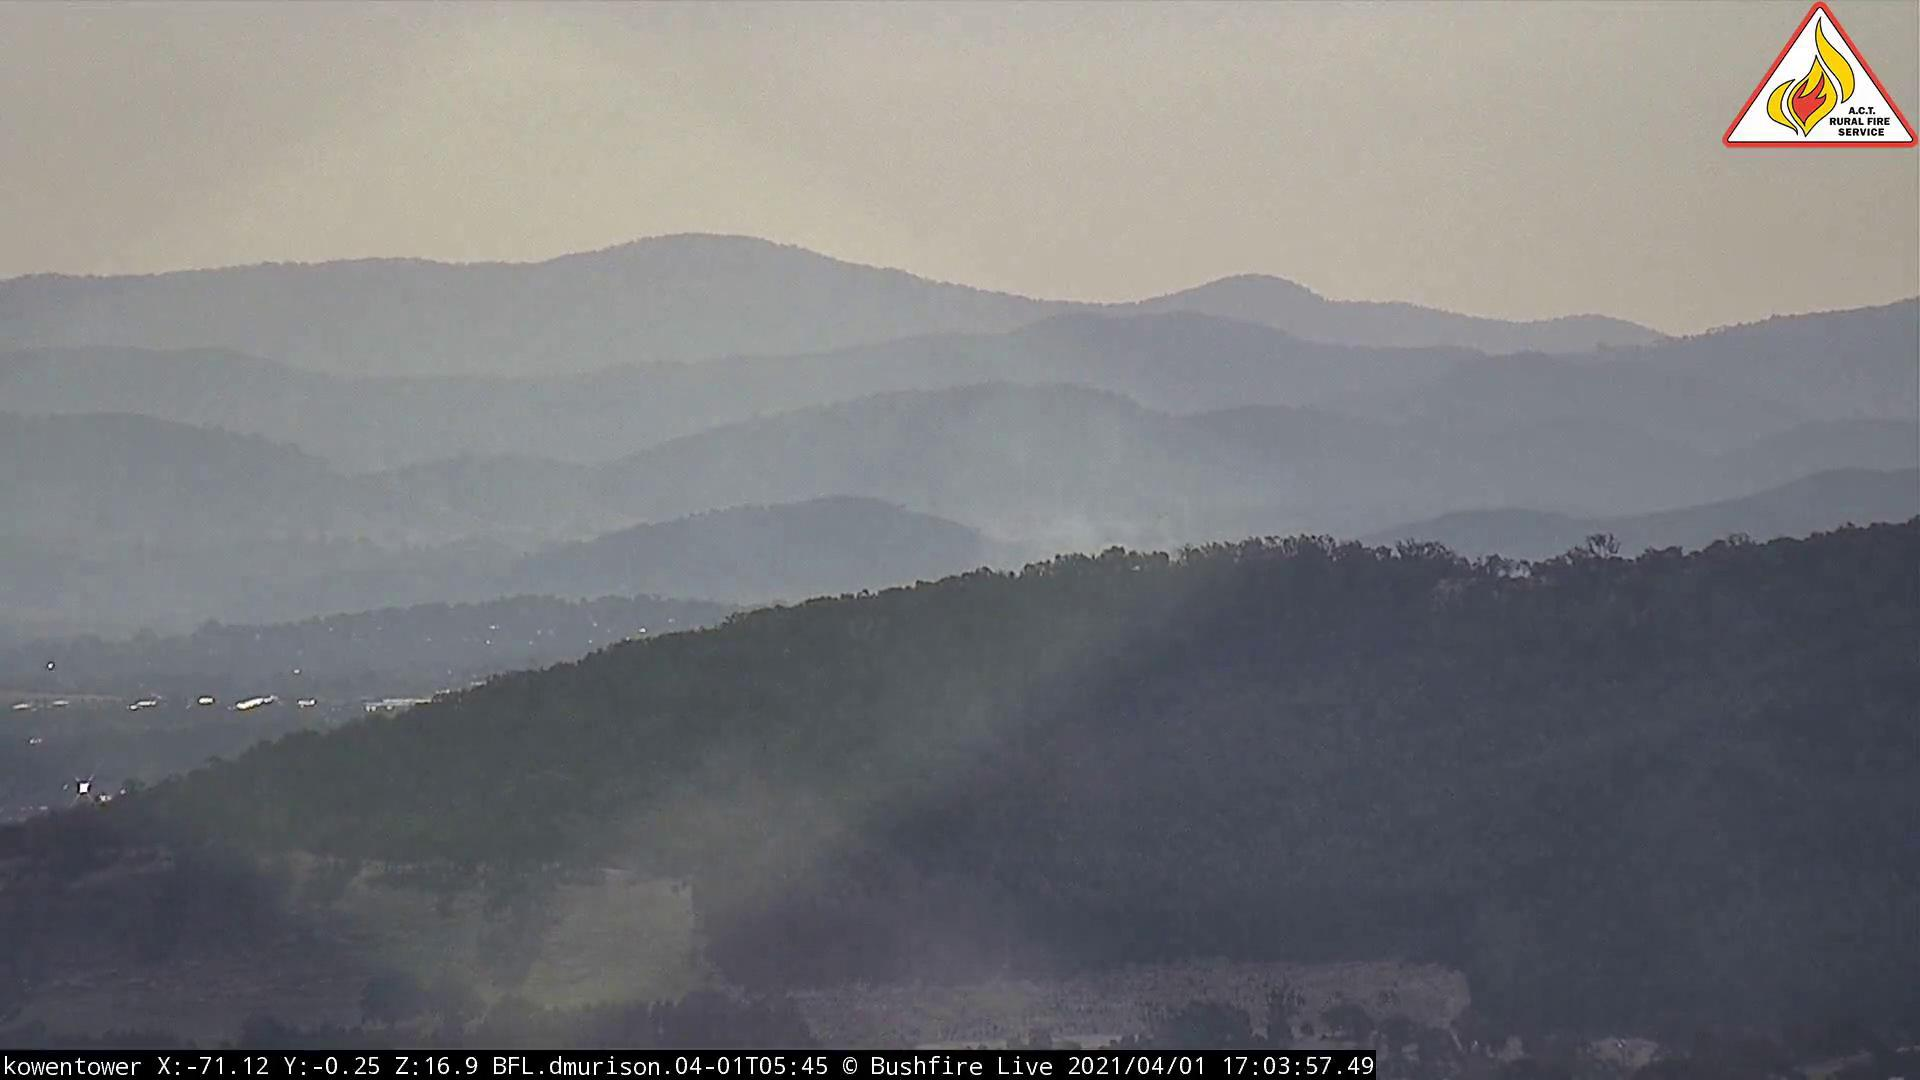Smoke: (971, 393, 1155, 568)
